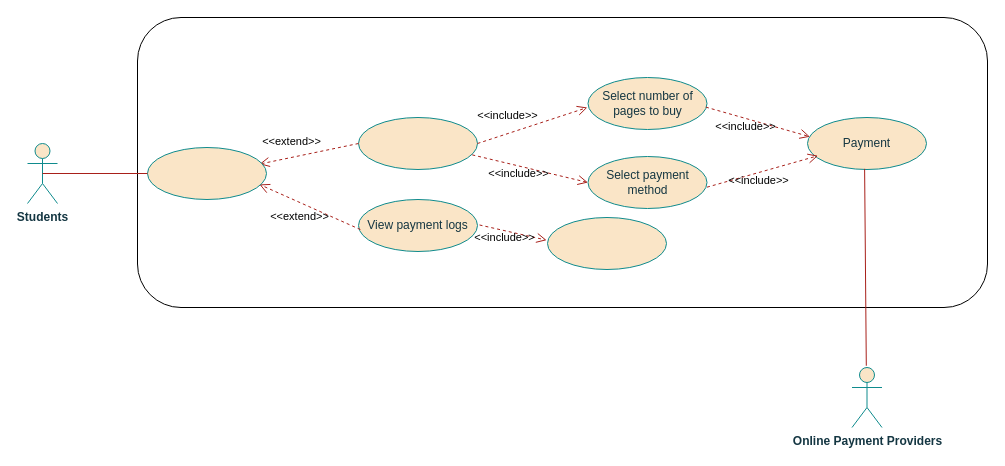
This 1005x466 diagram has some shape labels left out. Here are the shapes that lost their labels. From the top down, the centre of each, then its label:
the point at 418,143: Buy Printing Pages
the point at 206,173: View Page Balance
the point at 606,243: Select timeline
